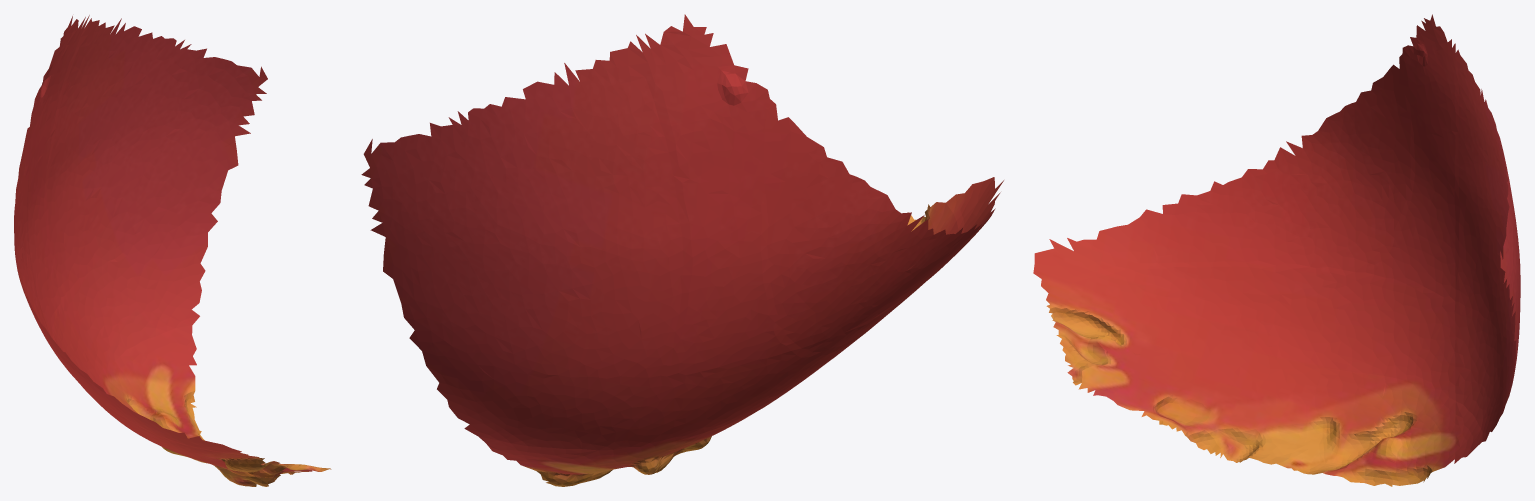
The picture shows the model from 3 angles, left to right: view 1: azimuth 30°, elevation 25°; view 2: azimuth 150°, elevation 25°; view 3: azimuth 270°, elevation 25°; orthographic projection. The views are drawn at different scales.
Parts seen in each view (by area): view 1: tripo_mesh_045d8eb0-72ec-4624-9759-a425f321d17a; view 2: tripo_mesh_045d8eb0-72ec-4624-9759-a425f321d17a; view 3: tripo_mesh_045d8eb0-72ec-4624-9759-a425f321d17a.
Part boxes in pixels (left/top/right/bottom): tripo_mesh_045d8eb0-72ec-4624-9759-a425f321d17a: left=14, top=15, right=331, bottom=486; tripo_mesh_045d8eb0-72ec-4624-9759-a425f321d17a: left=361, top=14, right=1003, bottom=486; tripo_mesh_045d8eb0-72ec-4624-9759-a425f321d17a: left=1033, top=14, right=1520, bottom=486.
Size of the model in its own units: 0.257 by 0.2986 by 0.3119.
Materials: 1 (1 with a texture image).
